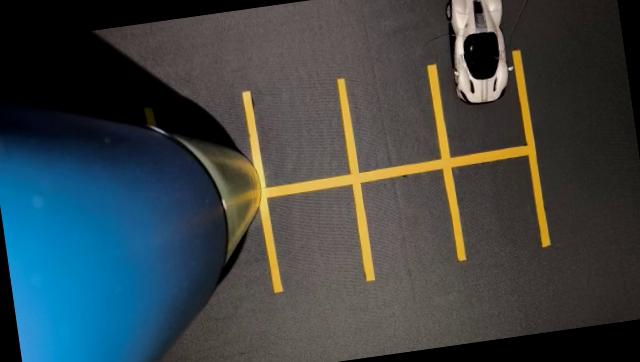toy_car: (420, 0, 552, 140)
